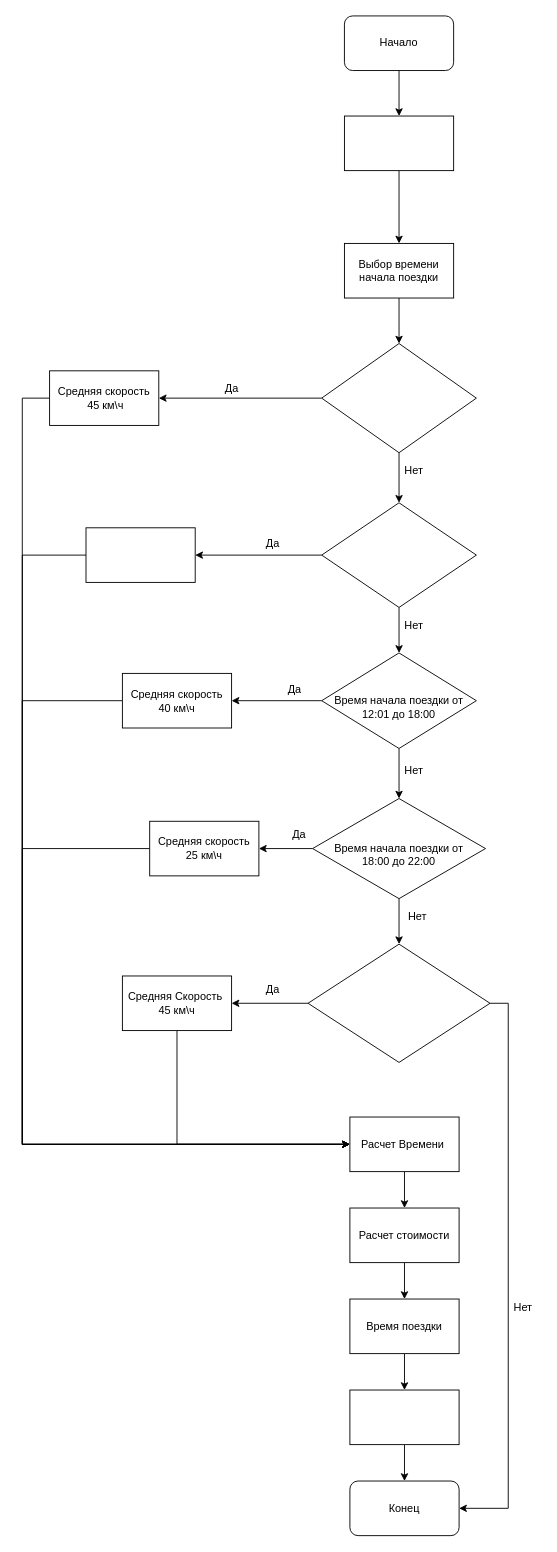
Image size: 557x1552. Some labels were removed from this diagram. The shapes that lost their labels are listed below. From the top down, each one's box as (x1, y1, x2, y2) in pixels, then its label:
(344, 115, 454, 171): Выбор транспорта
(321, 343, 476, 453): Время начала поездки от 00:01 до 08:00?
(85, 527, 195, 582): Средняя скорость 30 км\ч
(321, 502, 476, 607): Время начала поездки от 08:01 до 12:00
(307, 943, 490, 1062): Время начала поездки от 22:01 до 00:00
(349, 1389, 459, 1445): Стоимость поездки
